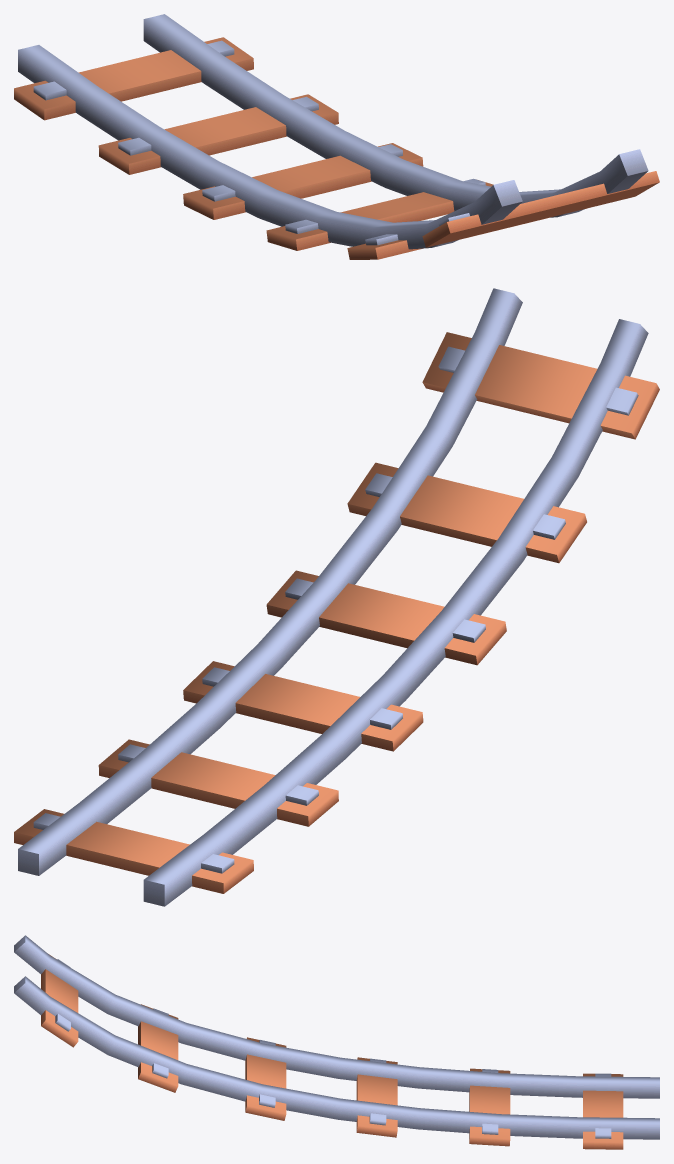
The model's file is kenney-train-railroad-straight-hill-beginning.glb.
3 renders of one model, top to bottom at view 1: azimuth 30°, elevation 25°; view 2: azimuth 150°, elevation 25°; view 3: azimuth 270°, elevation 25°, orthographic. The views are drawn at different scales.
Parts seen in each view (by area): view 1: railroad-straight-hill-beginning; view 2: railroad-straight-hill-beginning; view 3: railroad-straight-hill-beginning.
Part boxes in pixels (x1,y1,x2,y2): railroad-straight-hill-beginning: (14,14,659,259); railroad-straight-hill-beginning: (14,288,659,906); railroad-straight-hill-beginning: (14,935,659,1149).
Bounding box in the file's own units: 1 × 1.07 × 4.
1 material, 1 textured.
